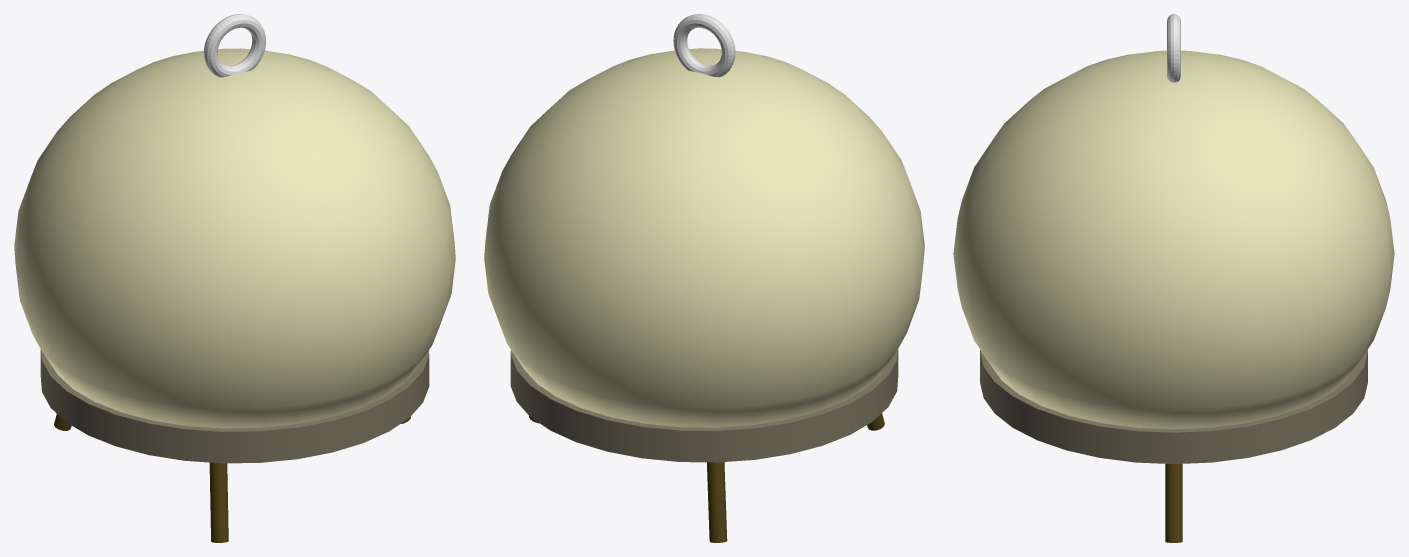
The model's file is lampara.fbx.
3 renders of one model, left to right at view 1: azimuth 30°, elevation 25°; view 2: azimuth 150°, elevation 25°; view 3: azimuth 270°, elevation 25°, orthographic.
Parts seen in each view (by area): view 1: Sphere, Cylinder, Torus, NurbsPath.001; view 2: Sphere, Cylinder, Torus, NurbsPath.001; view 3: Sphere, Cylinder, NurbsPath.001, Torus.
Part boxes in pixels (box(x1,y1,x2,y2)): Sphere: box(14, 48, 455, 428); Cylinder: box(40, 349, 429, 463); Torus: box(204, 14, 265, 77); NurbsPath.001: box(54, 414, 410, 542); Sphere: box(484, 48, 924, 427); Cylinder: box(510, 349, 898, 462); Torus: box(673, 14, 735, 77); NurbsPath.001: box(529, 413, 884, 542); Sphere: box(953, 50, 1394, 429); Cylinder: box(980, 350, 1367, 463); NurbsPath.001: box(1165, 464, 1182, 542); Torus: box(1167, 14, 1180, 82).
Bounding box in the file's own units: 200 × 223 × 200.
